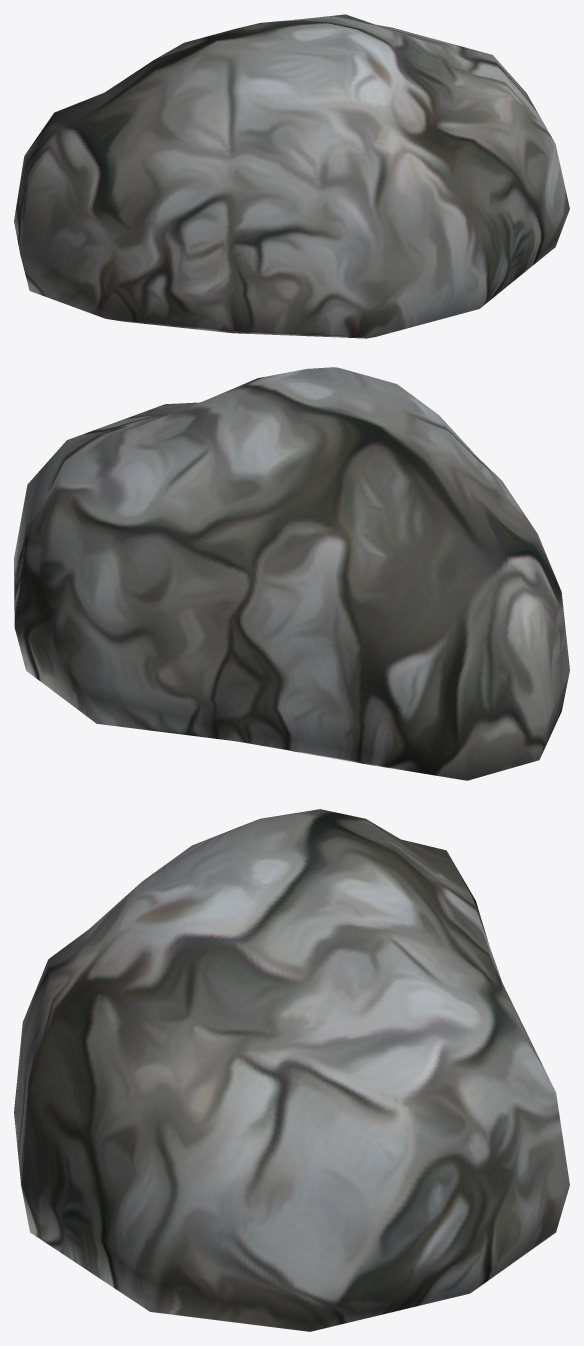
File: Stone_01.fbx
3 views of the same model, one above another, from view 1: azimuth 30°, elevation 25°; view 2: azimuth 150°, elevation 25°; view 3: azimuth 270°, elevation 25° (orthographic). The views are drawn at different scales.
Parts seen in each view (by area): view 1: Stone_01; view 2: Stone_01; view 3: Stone_01.
Part boxes in pixels (left/top/right/bottom): Stone_01: left=14, top=14, right=569, bottom=338; Stone_01: left=14, top=367, right=569, bottom=780; Stone_01: left=14, top=809, right=569, bottom=1331.
Size of the model in its own units: 42.97 by 19.98 by 31.29.
